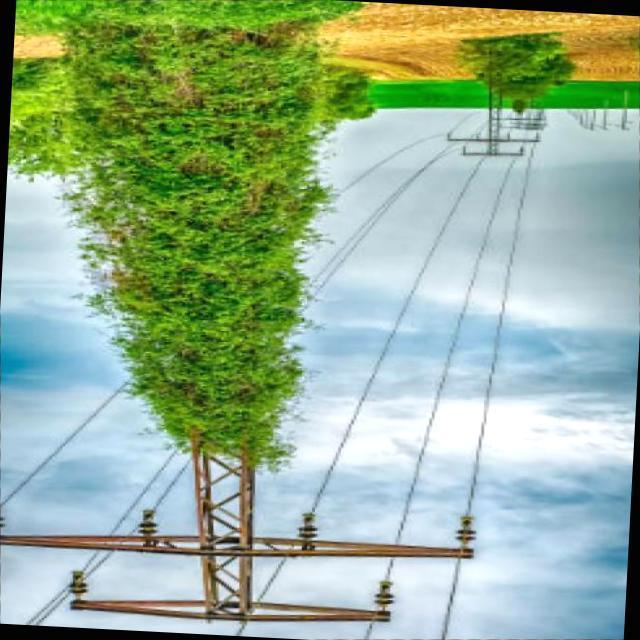critical vegetation: (26, 35, 414, 640), (54, 34, 336, 490)
